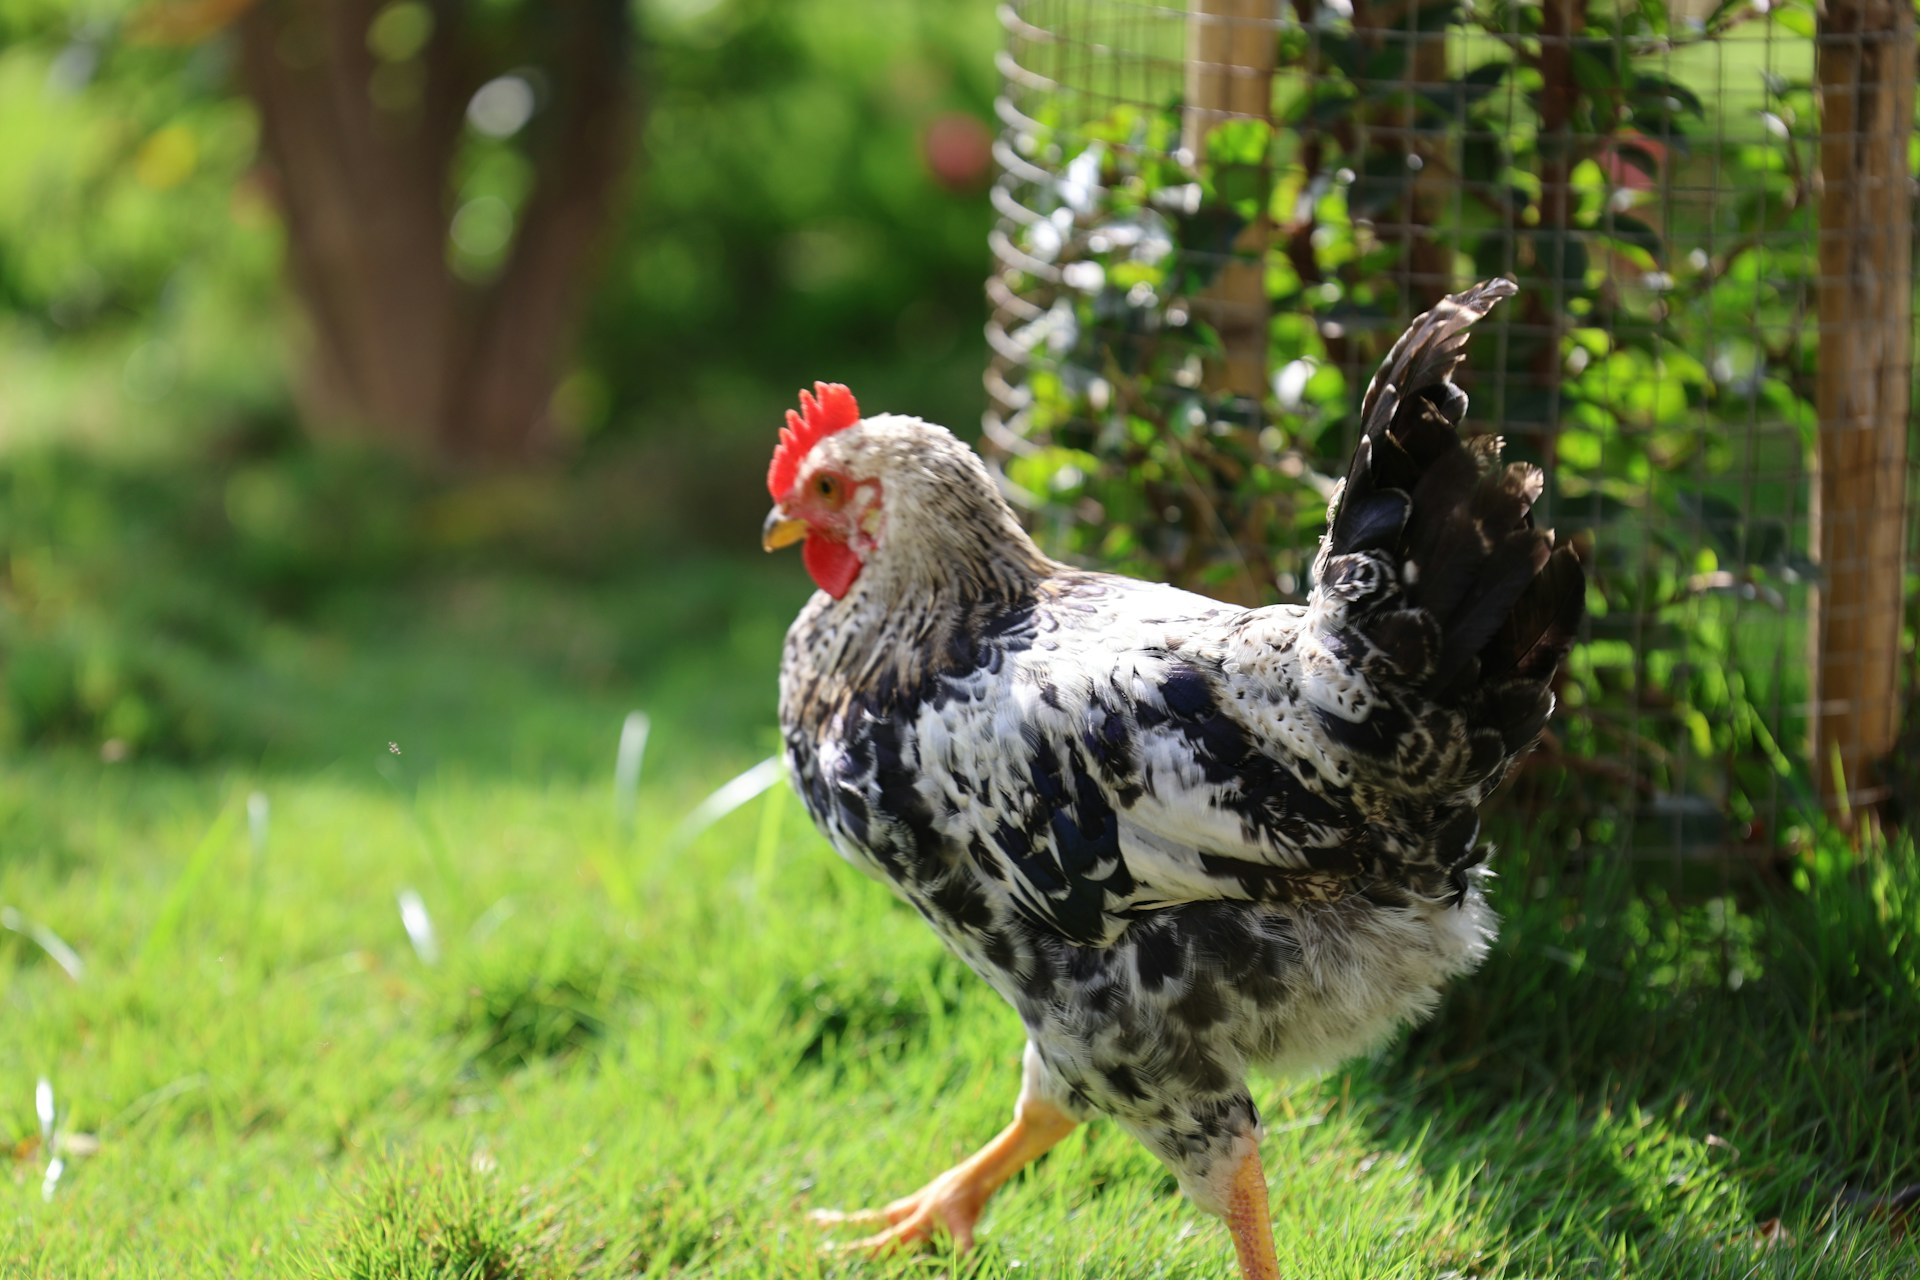hen: (737, 266, 1610, 1280)
